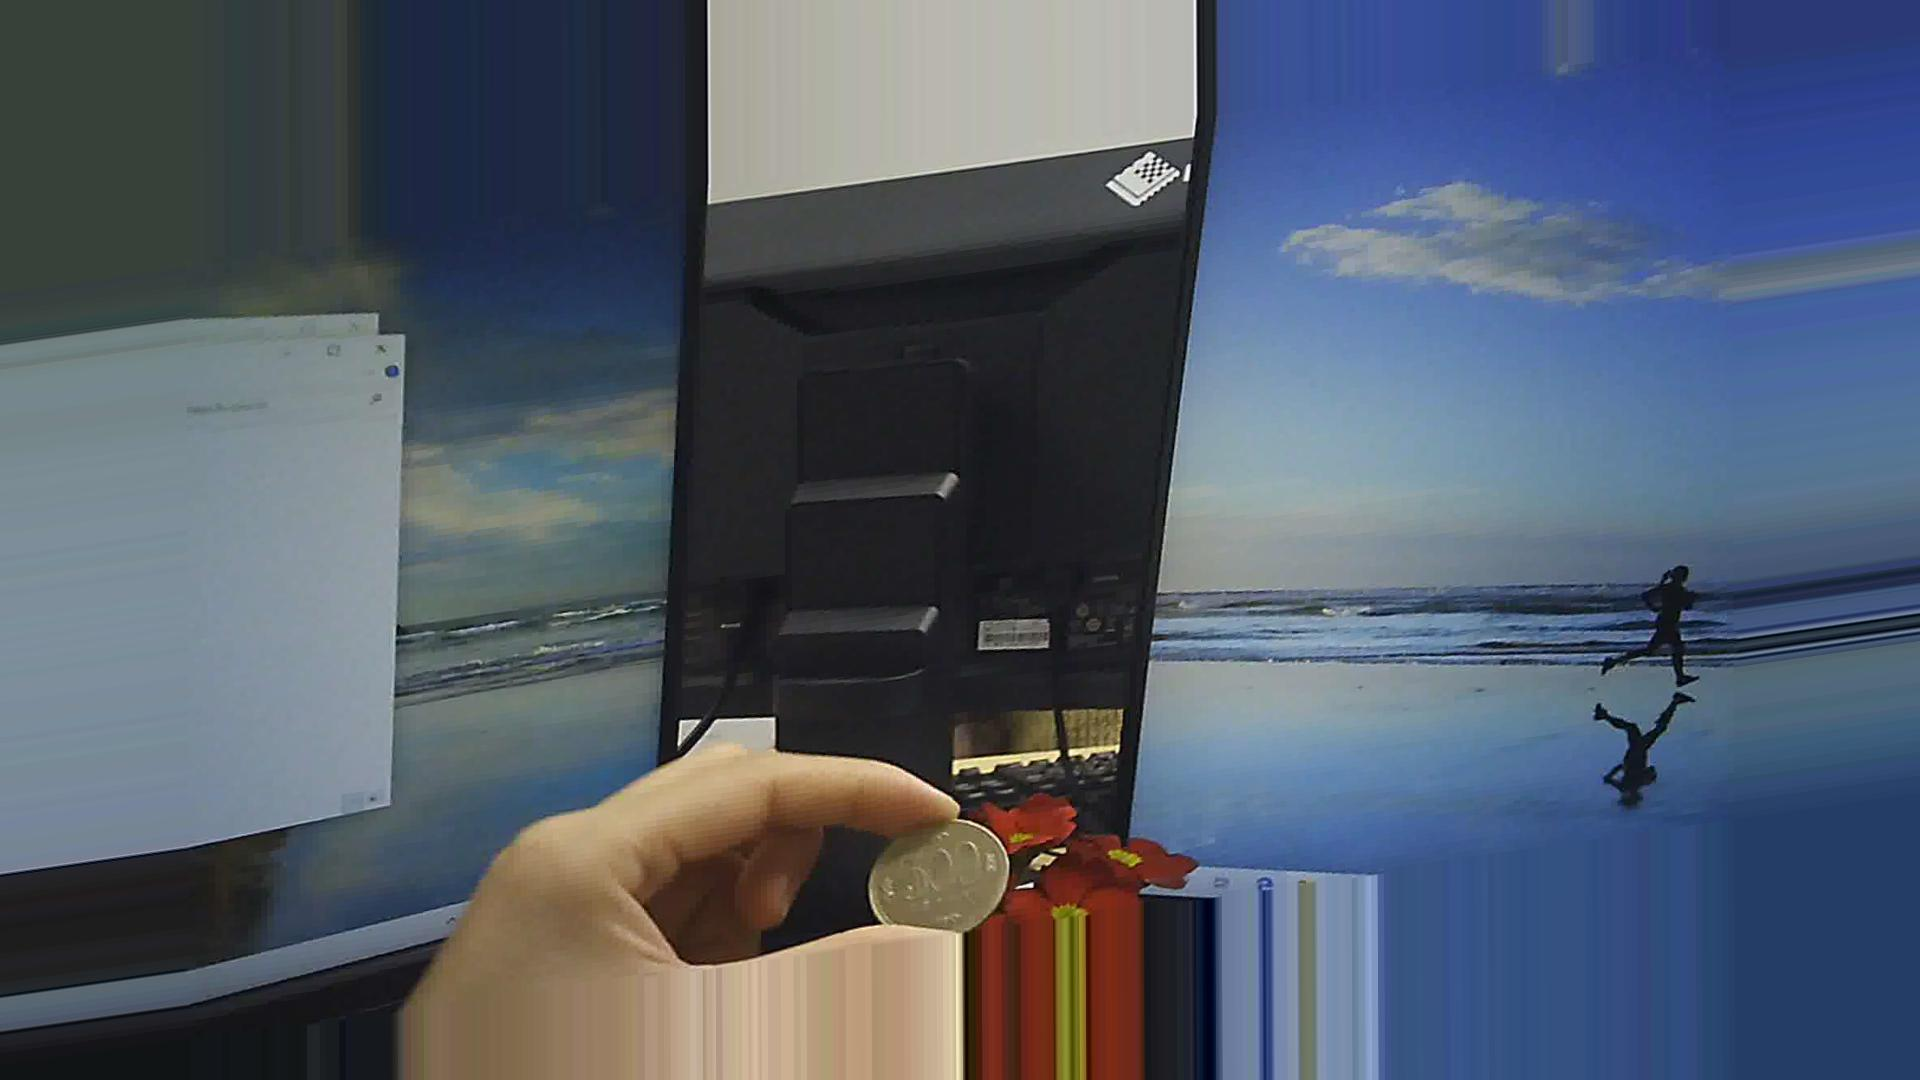500 Yen: (856, 799, 1021, 930)
